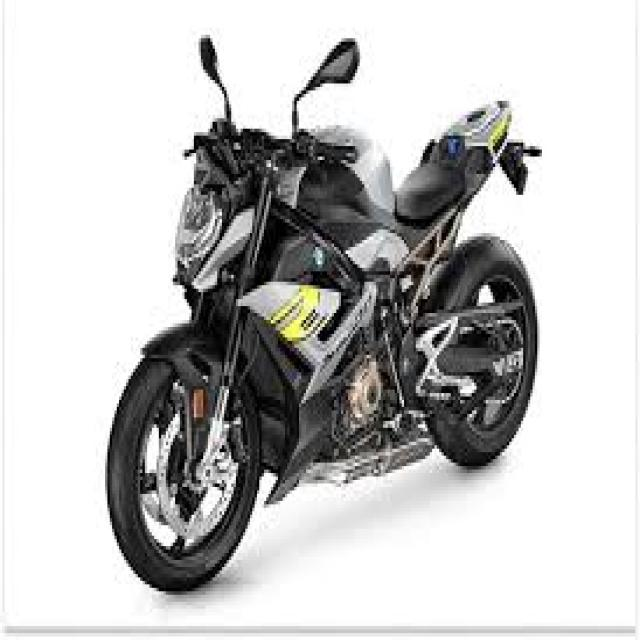MOTORCYCLE: (108, 40, 546, 604)
